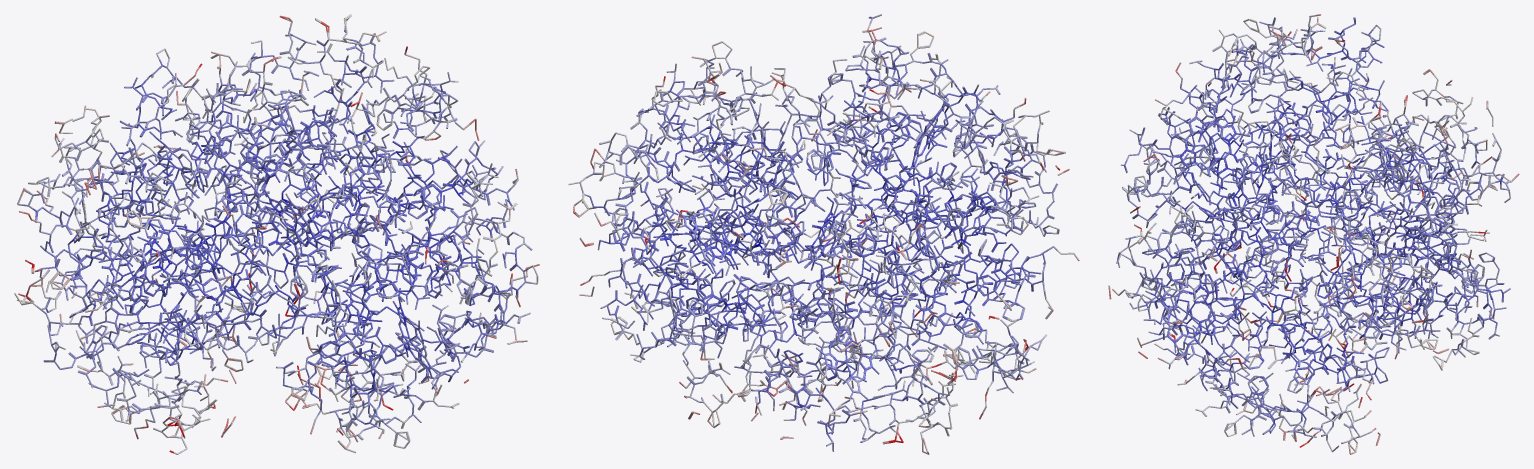
File: 4hhb__lines__b-factor.glb
The picture shows the model from 3 angles, left to right: view 1: azimuth 30°, elevation 25°; view 2: azimuth 150°, elevation 25°; view 3: azimuth 270°, elevation 25°; orthographic projection. The views are drawn at different scales.
Visible parts, largest first — view 1: Renderer Node; view 2: Renderer Node; view 3: Renderer Node.
Boxes of the visible parts, bbox=[...] form: Renderer Node: bbox=[14, 14, 539, 454]; Renderer Node: bbox=[568, 14, 1079, 454]; Renderer Node: bbox=[1108, 14, 1519, 454].
Size of the model in its own units: 65.55 by 57.14 by 57.46.
